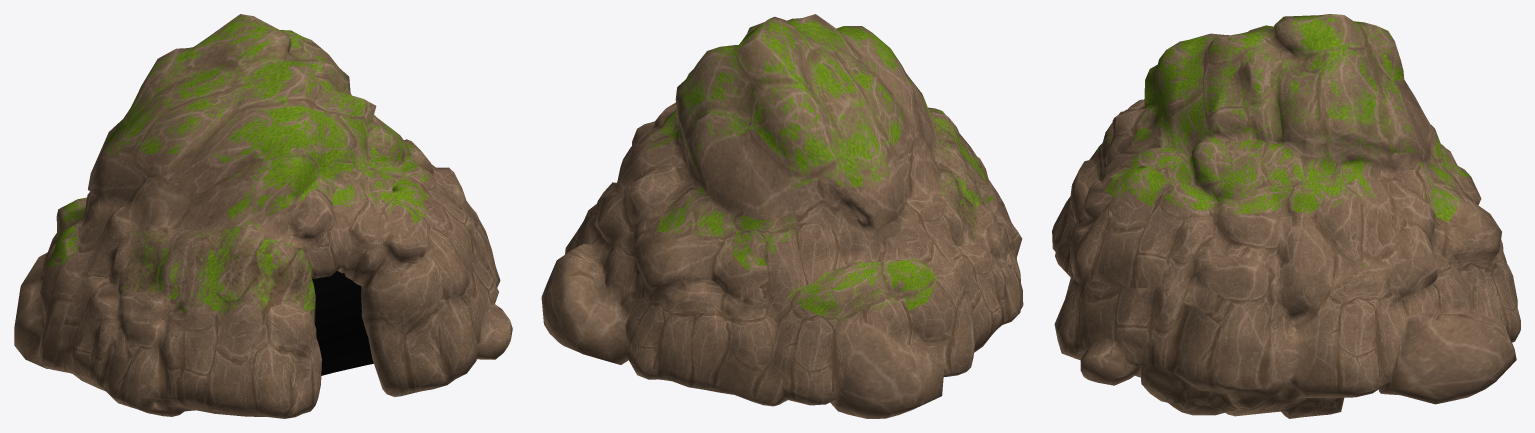
The model's file is sb_obj_outdoor010_Landmark_Cave.fbx.
The picture shows the model from 3 angles, left to right: view 1: azimuth 30°, elevation 25°; view 2: azimuth 150°, elevation 25°; view 3: azimuth 270°, elevation 25°; orthographic projection. The views are drawn at different scales.
Visible parts, largest first — view 1: sb_obj_outdoor010_Landmark01_Cave; view 2: sb_obj_outdoor010_Landmark01_Cave; view 3: sb_obj_outdoor010_Landmark01_Cave.
Boxes of the visible parts, bbox=[...] form: sb_obj_outdoor010_Landmark01_Cave: bbox=[14, 14, 512, 418]; sb_obj_outdoor010_Landmark01_Cave: bbox=[541, 14, 1023, 418]; sb_obj_outdoor010_Landmark01_Cave: bbox=[1052, 14, 1520, 418].
Size of the model in its own units: 1.05 by 0.8052 by 1.01.
